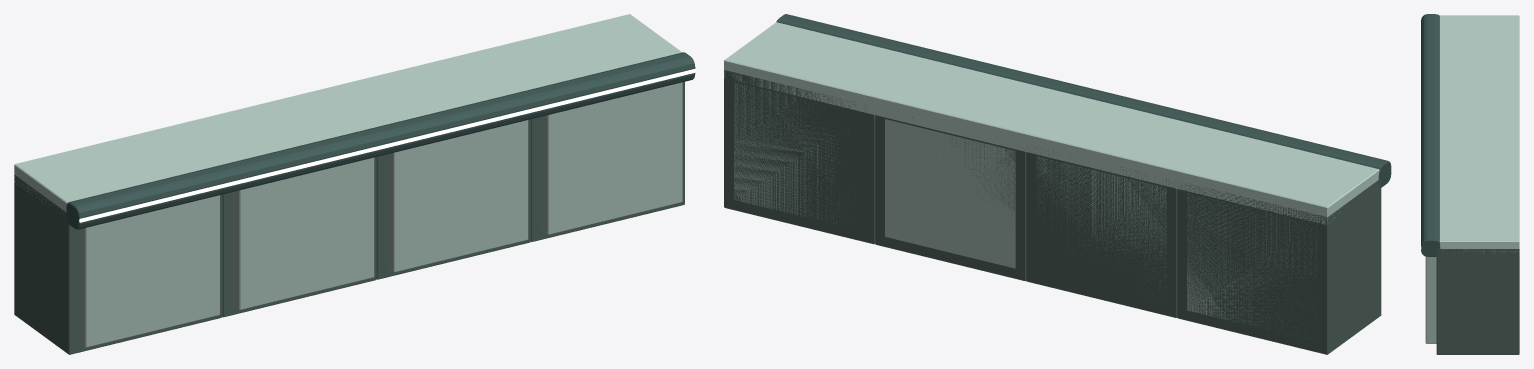
Rendered from Terrain_TopRun4.gltf.
3 views of the same model, side by side, from view 1: azimuth 30°, elevation 25°; view 2: azimuth 150°, elevation 25°; view 3: azimuth 270°, elevation 25° (orthographic). The views are drawn at different scales.
Parts seen in each view (by area): view 1: Terrain_TopRun4_baked; view 2: Terrain_TopRun4_baked; view 3: Terrain_TopRun4_baked.
Boxes of the visible parts, x1,y1,x2,y2 form: Terrain_TopRun4_baked: (14, 14, 695, 354); Terrain_TopRun4_baked: (724, 14, 1391, 354); Terrain_TopRun4_baked: (1420, 14, 1519, 354).
Bounding box in the file's own units: 4 × 0.9495 × 0.74.
